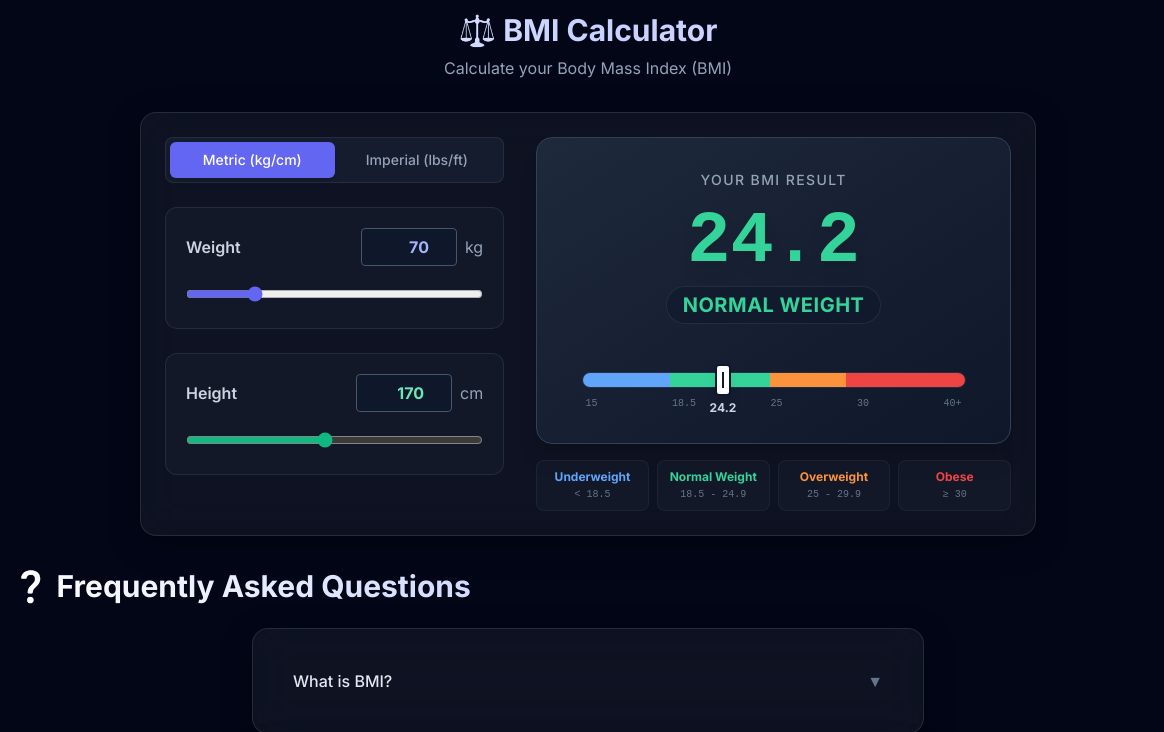
BMI Calculator › switches to imperial unit system
Click the button "Imperial (lbs/ft)".
click(417, 160)  # box 335,142 -> 499,178
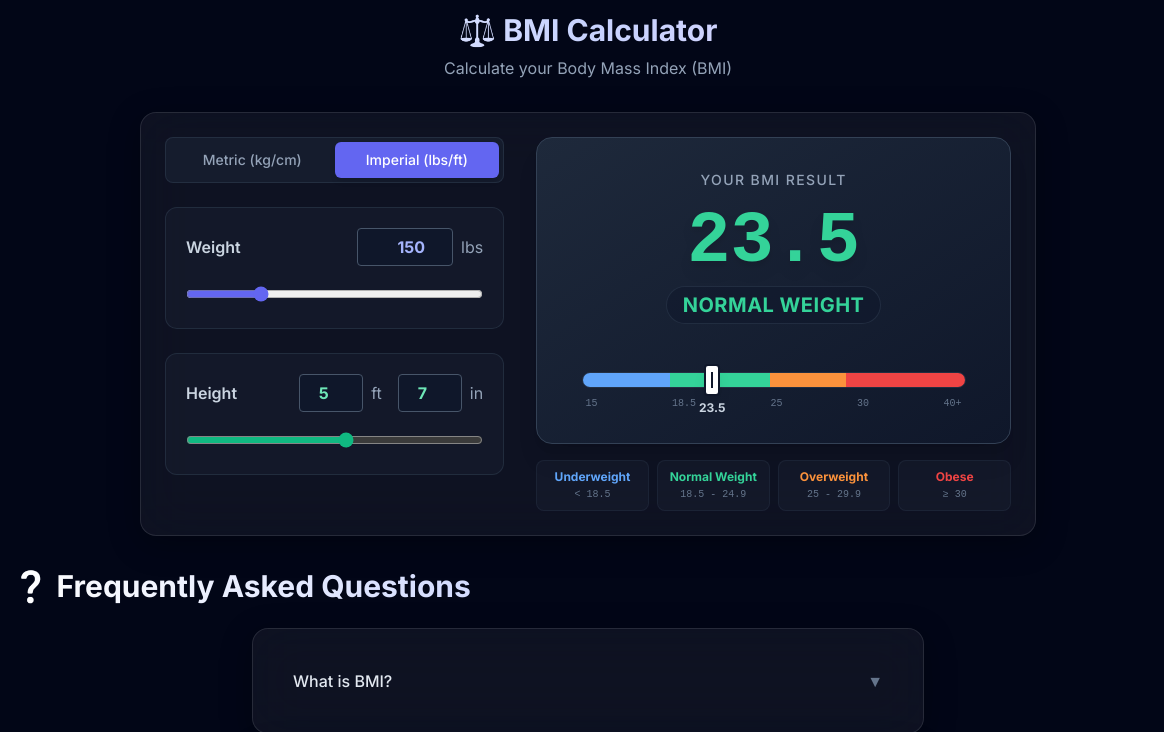
Now the text "lbs" is shown, box 461,235 -> 483,259
Now the text "ft" is shown, box 371,381 -> 382,405
